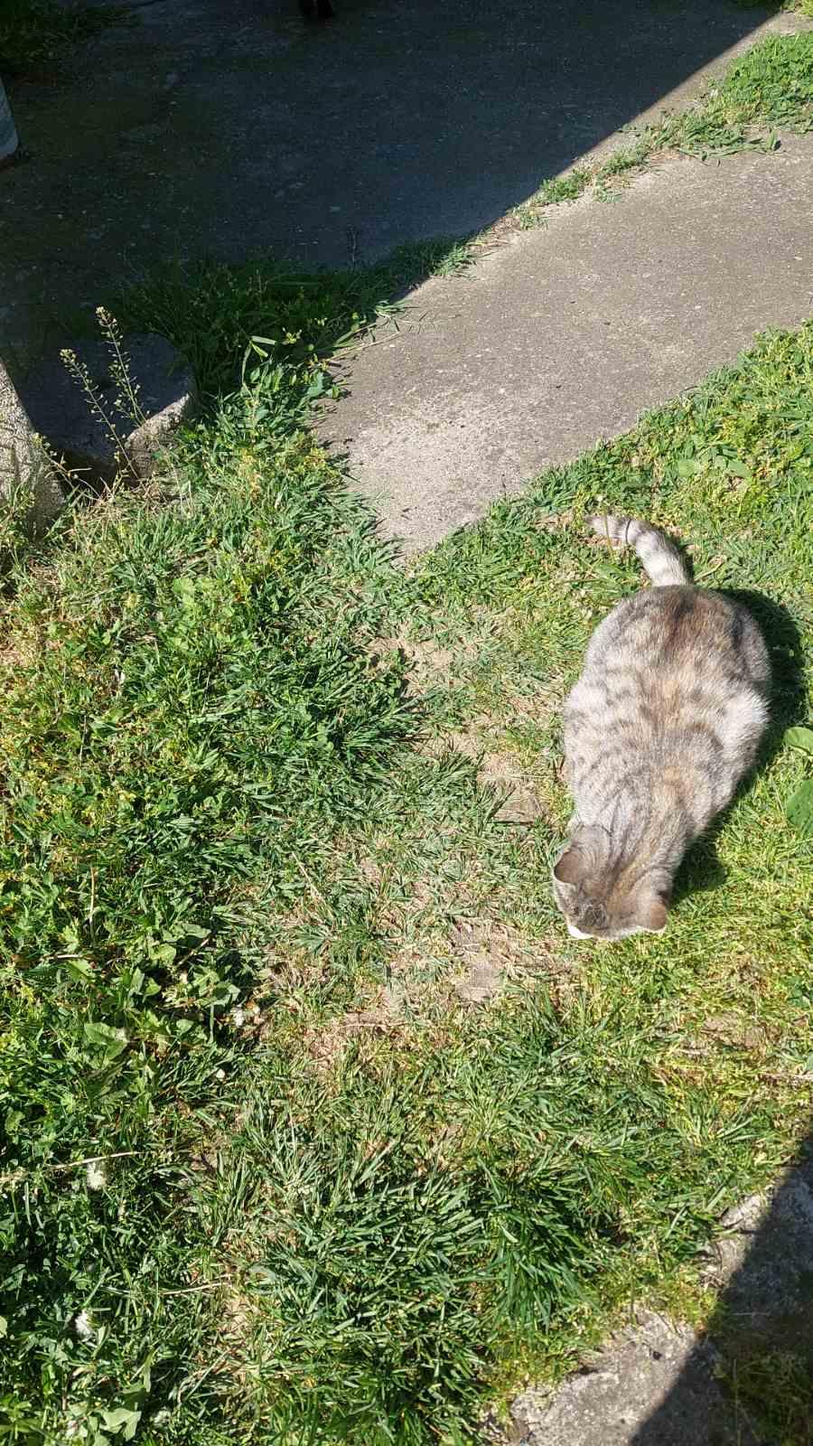macka: (551, 514, 772, 942)
